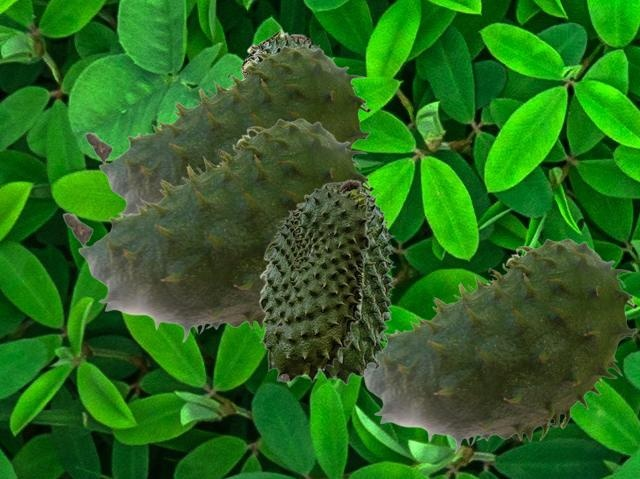guyabano: (62, 118, 373, 342), (363, 238, 637, 453), (84, 45, 370, 215), (258, 179, 370, 382), (321, 189, 396, 384), (240, 28, 335, 79)
